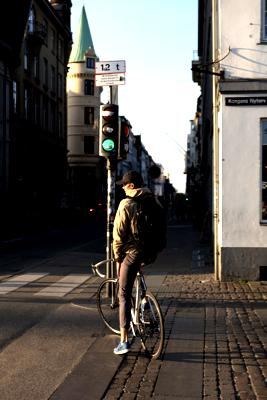International Road Signal Light: (99, 104, 119, 156), (117, 113, 130, 160)
